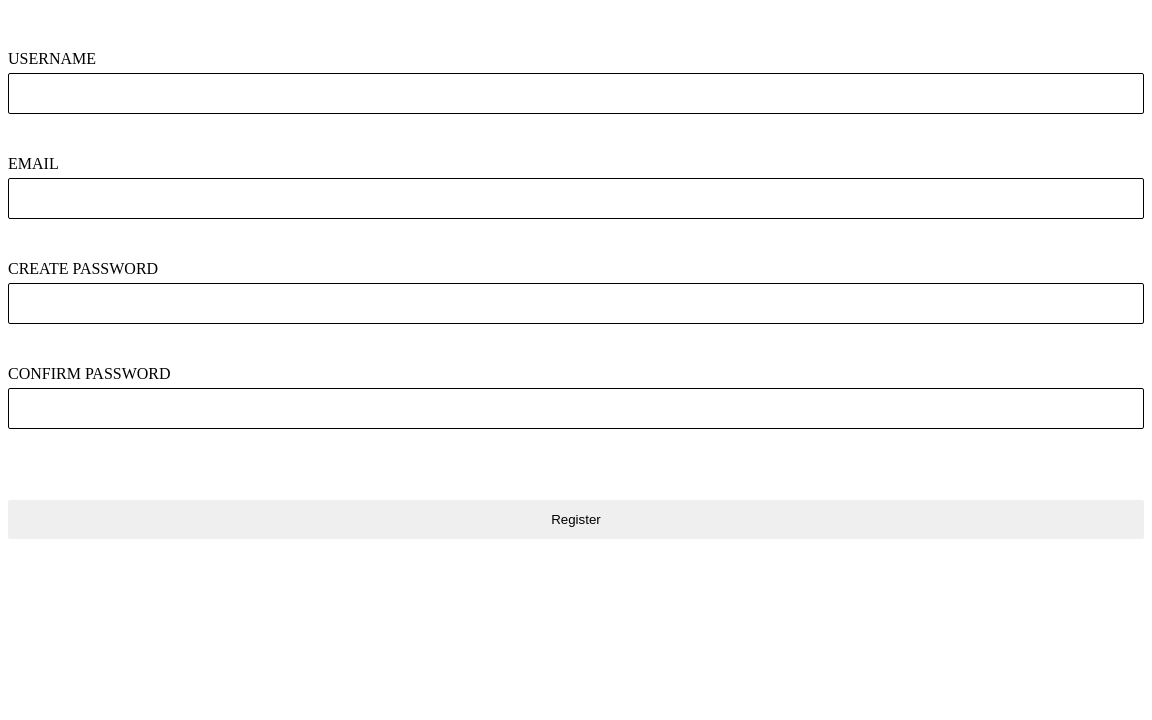
Test: should render errors on submit
Click the button "Register" at {"x": 576, "y": 520}, box 8,500 -> 1144,539
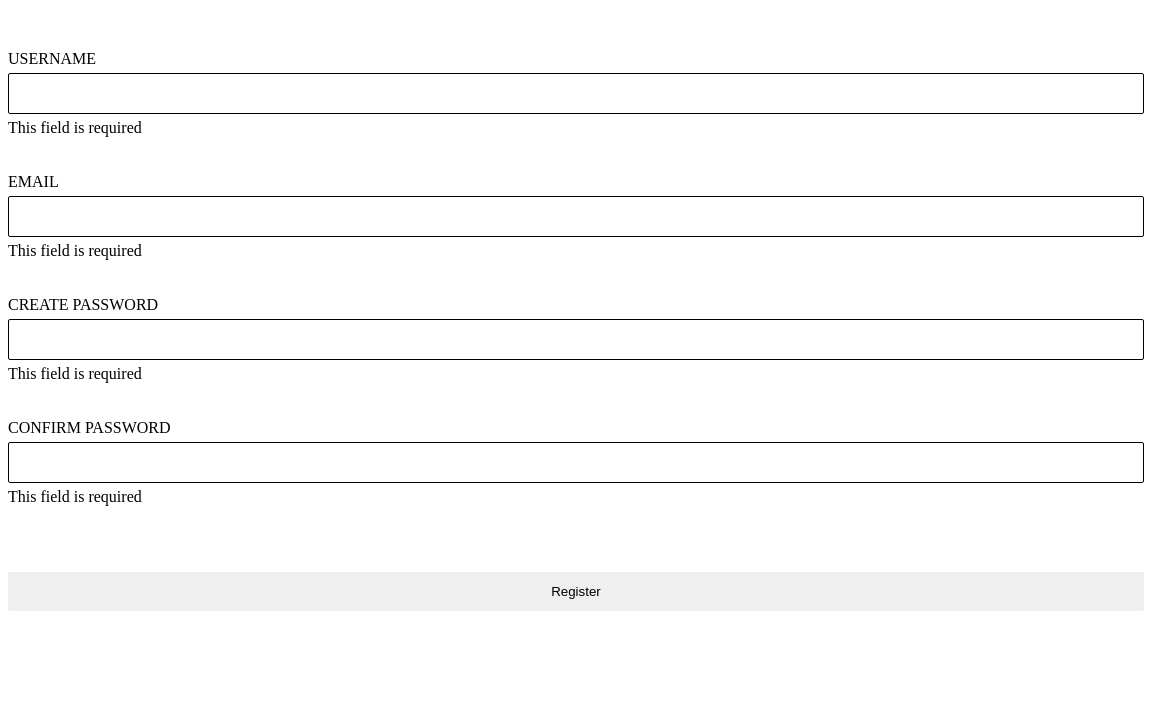
Expected: the text "This field is required" is shown 4 times, 8,119 -> 142,136; 8,242 -> 142,259; 8,365 -> 142,382; 8,488 -> 142,505
